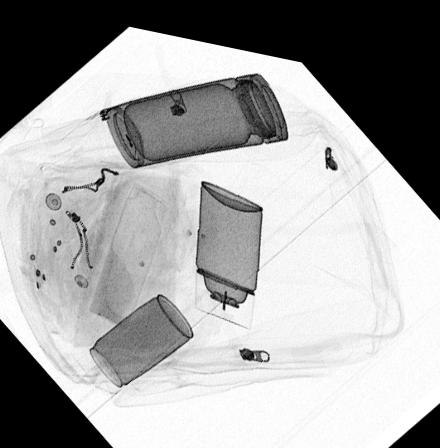Sprayer: (194, 169, 264, 320)
